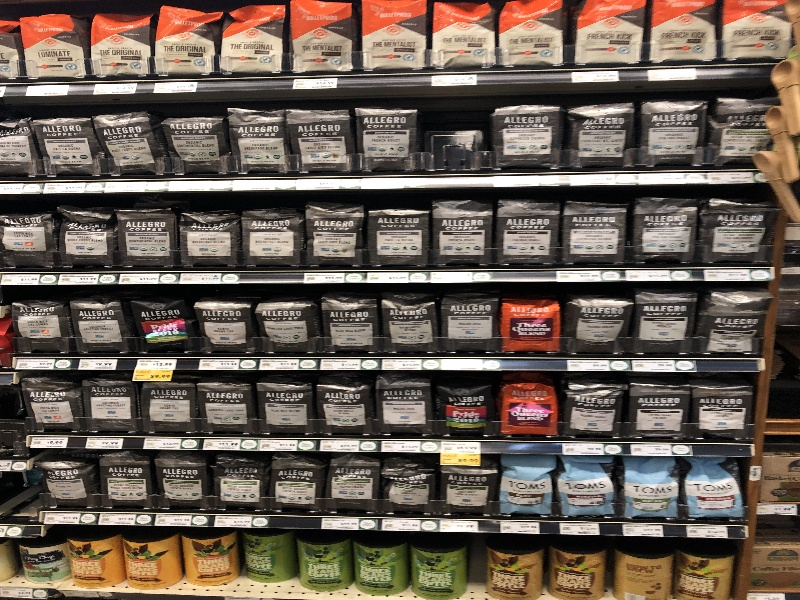void: (423, 101, 496, 175), (1, 463, 41, 528)
